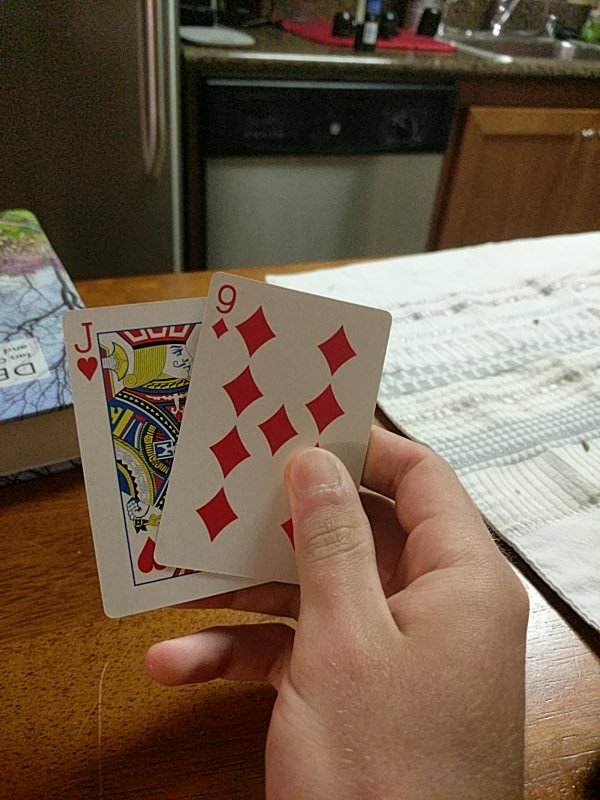Diamonds: (155, 272, 393, 585)
Hearts: (61, 298, 297, 619)
